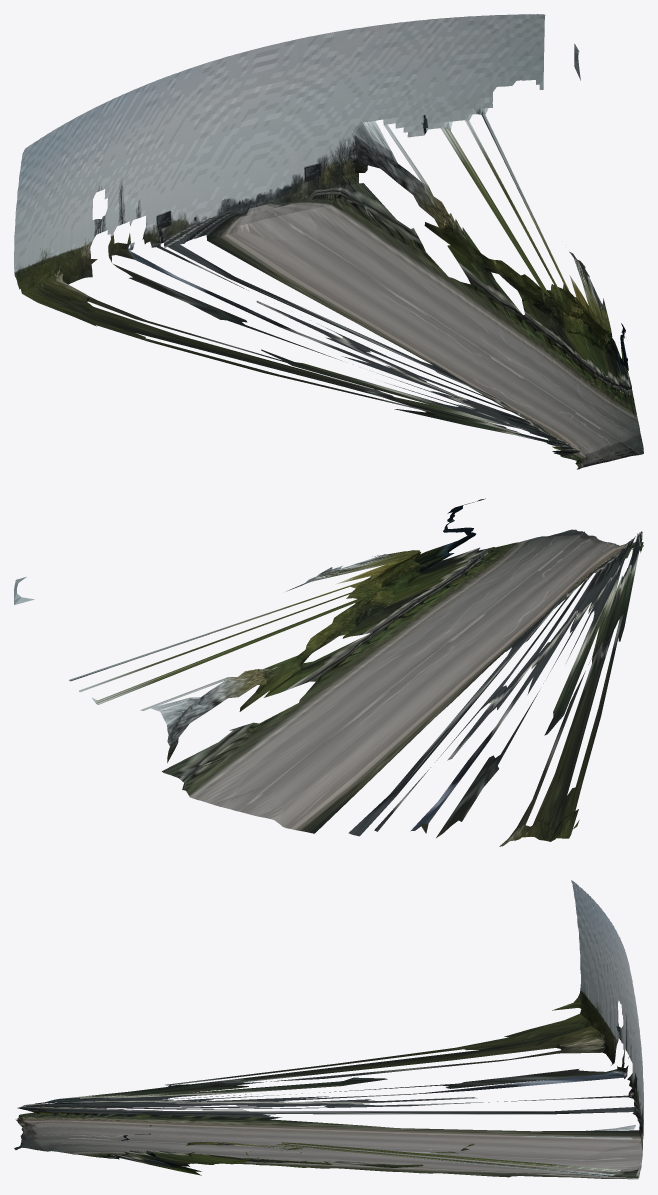
The picture shows the model from 3 angles, top to bottom: view 1: azimuth 30°, elevation 25°; view 2: azimuth 150°, elevation 25°; view 3: azimuth 270°, elevation 25°; orthographic projection. The views are drawn at different scales.
Parts seen in each view (by area): view 1: defaultobject; view 2: defaultobject; view 3: defaultobject.
Boxes of the visible parts, x1,y1,x2,y2 form: defaultobject: (14, 14, 643, 469); defaultobject: (14, 498, 643, 846); defaultobject: (14, 880, 643, 1179).
Bounding box in the file's own units: 40.8 × 12.85 × 44.63.
Materials: 1 (1 with a texture image).
